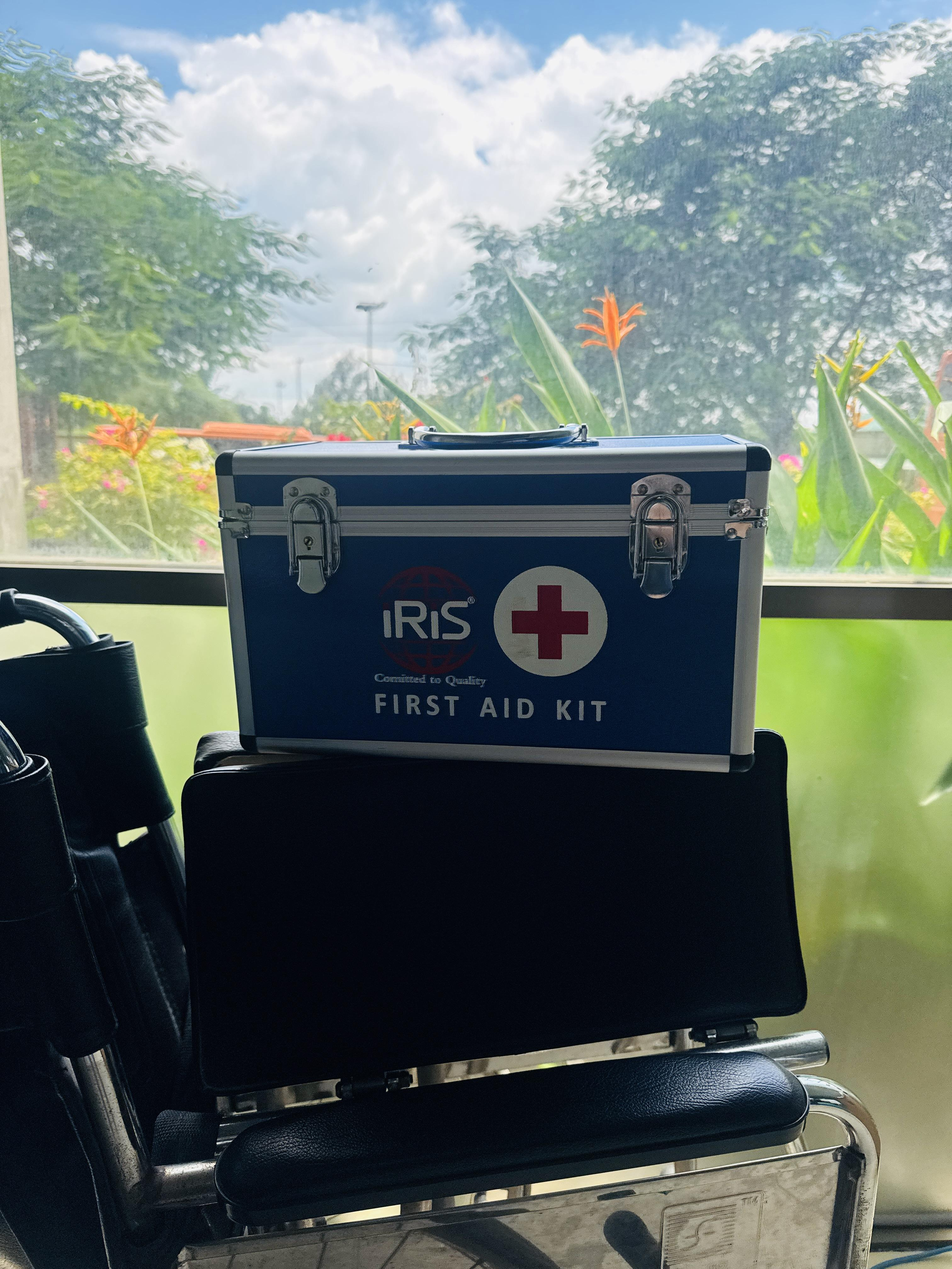FirstAidBox: (192, 404, 787, 791)
